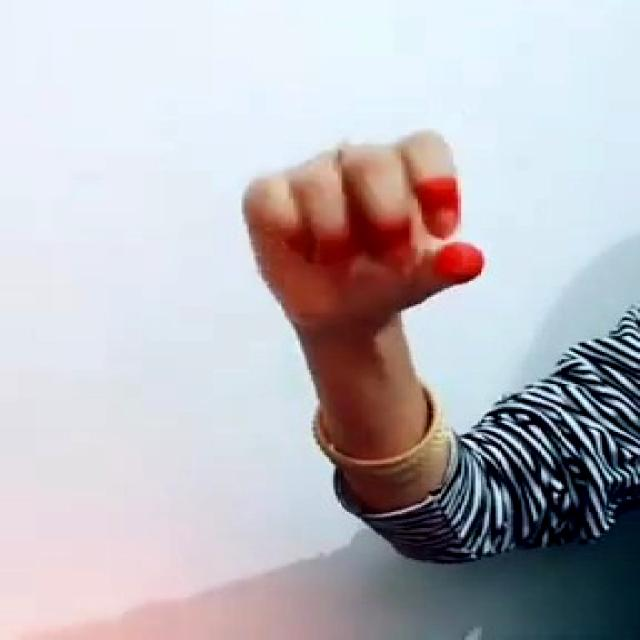Mushti: (210, 128, 514, 330)
bangle: (288, 373, 482, 478)
